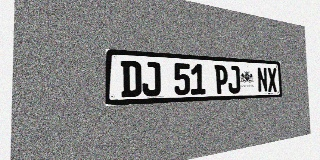1: (190, 64, 205, 95)
5: (174, 63, 190, 95)
D: (121, 60, 141, 97)
J: (142, 61, 161, 97), (228, 66, 240, 93)
N: (257, 67, 268, 92)
P: (214, 65, 228, 94)
X: (267, 67, 277, 92)
